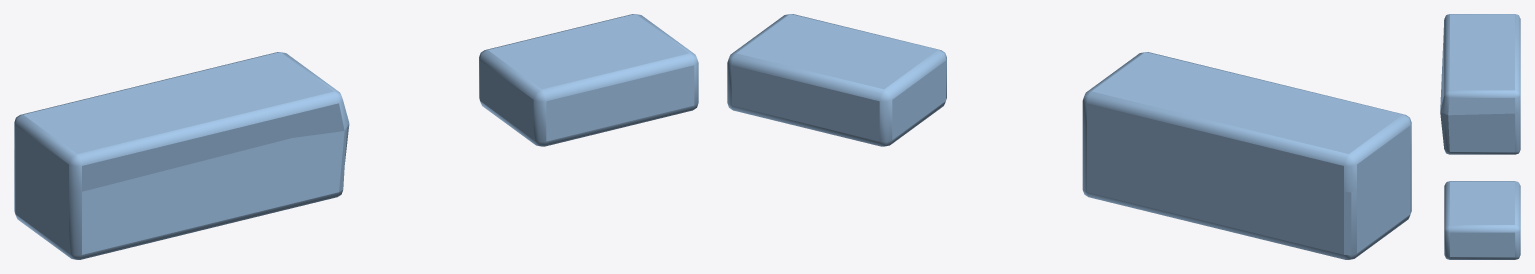
File: BanChaiCo_XaPhong.glb
The picture shows the model from 3 angles, left to right: view 1: azimuth 30°, elevation 25°; view 2: azimuth 150°, elevation 25°; view 3: azimuth 270°, elevation 25°; orthographic projection. The views are drawn at different scales.
Parts seen in each view (by area): view 1: geometry_0; view 2: geometry_0; view 3: geometry_0.
Boxes of the visible parts, bbox=[...] form: geometry_0: bbox=[14, 14, 698, 259]; geometry_0: bbox=[727, 14, 1411, 259]; geometry_0: bbox=[1440, 14, 1520, 259].
Size of the model in its own units: 0.23 by 0.037 by 0.0421.
